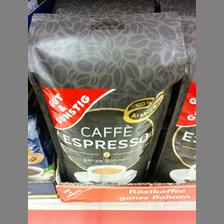Kaffee: (28, 11, 184, 181)
